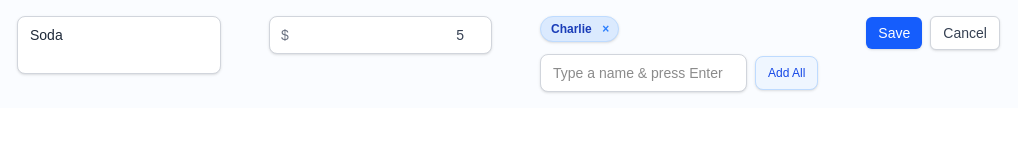
it: ReceiptTableRow › allows adding and removing tags
In the field with placeholder "Type a name & press Enter": (644, 73) [540, 54, 747, 92], type "Dave"
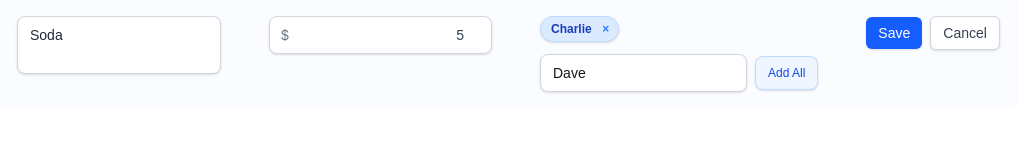
Press Enter in the field with placeholder "Type a name & press Enter", box [540, 54, 747, 92]
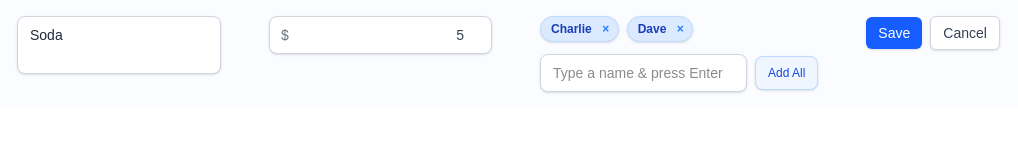
Now the text "Dave" is shown, box [638, 22, 666, 36]
Click the button "×" next to "Charlie": (606, 29) [598, 21, 614, 37]
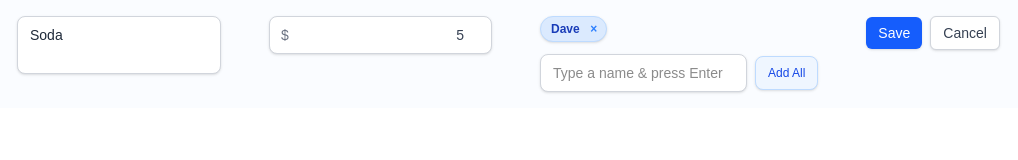
Now the text "Charlie" is gone
